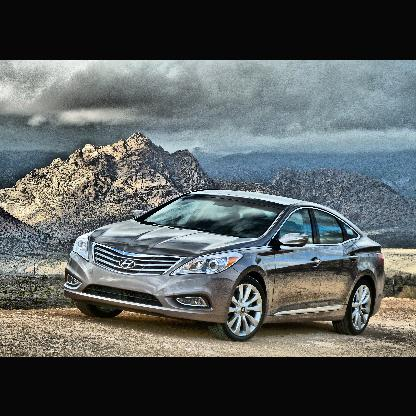Hyundai Azera Sedan 2012: (63, 188, 389, 342)
